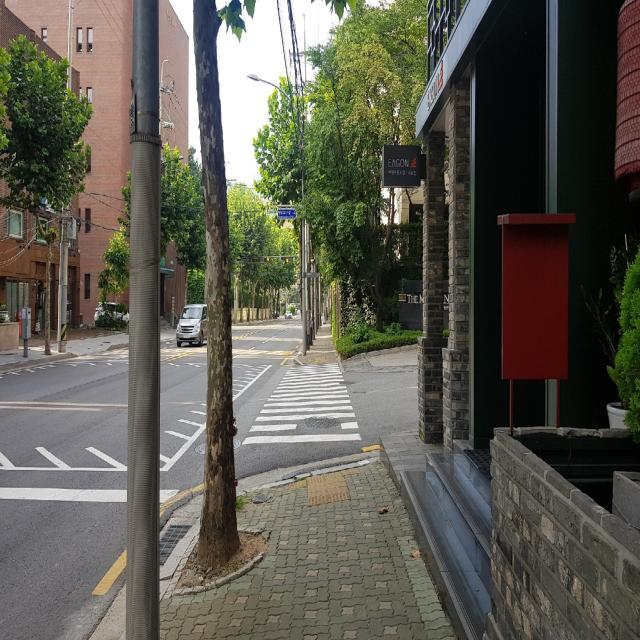횡단보도: (242, 362, 362, 446)
